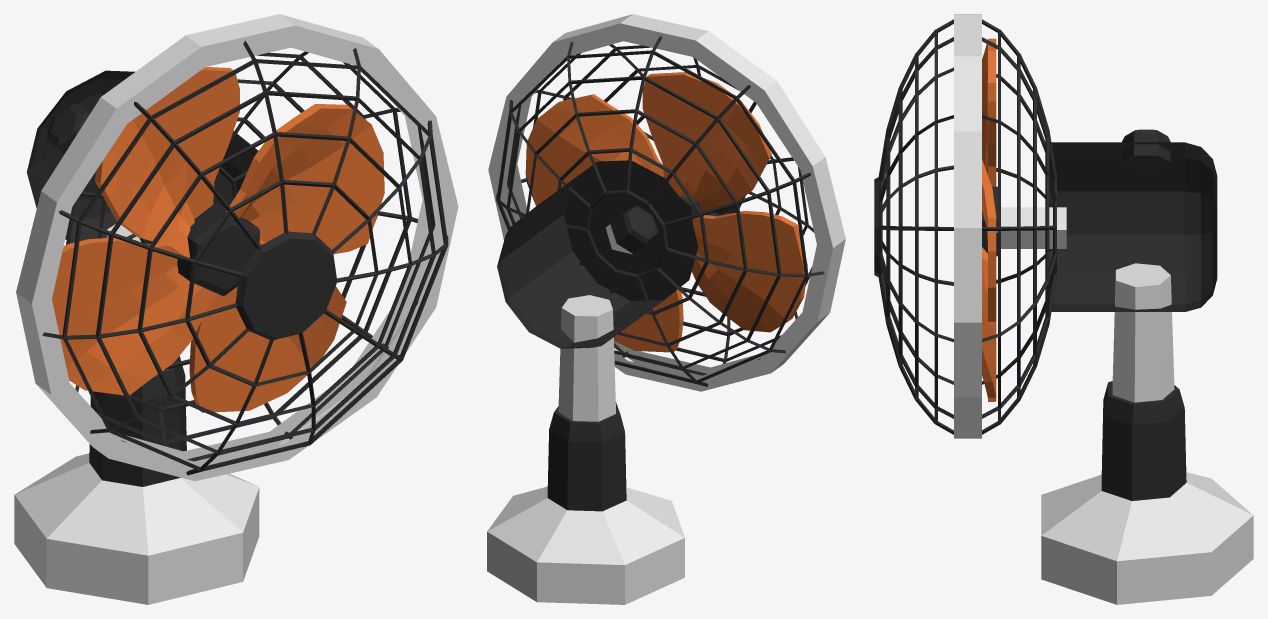
File: fantoty.fbx
3 views of the same model, side by side, from view 1: azimuth 30°, elevation 25°; view 2: azimuth 150°, elevation 25°; view 3: azimuth 270°, elevation 25° (orthographic). The views are drawn at different scales.
Parts seen in each view (by area): view 1: Cylinder, Plane.002; view 2: Cylinder, Plane.002; view 3: Cylinder, Plane.002.
Part boxes in pixels (bbox=[...]): Cylinder: bbox=[14, 14, 458, 604]; Plane.002: bbox=[52, 67, 384, 412]; Cylinder: bbox=[487, 14, 845, 604]; Plane.002: bbox=[525, 72, 807, 352]; Cylinder: bbox=[874, 14, 1253, 604]; Plane.002: bbox=[982, 38, 997, 401].
Size of the model in its own units: 207 by 275 by 180.
